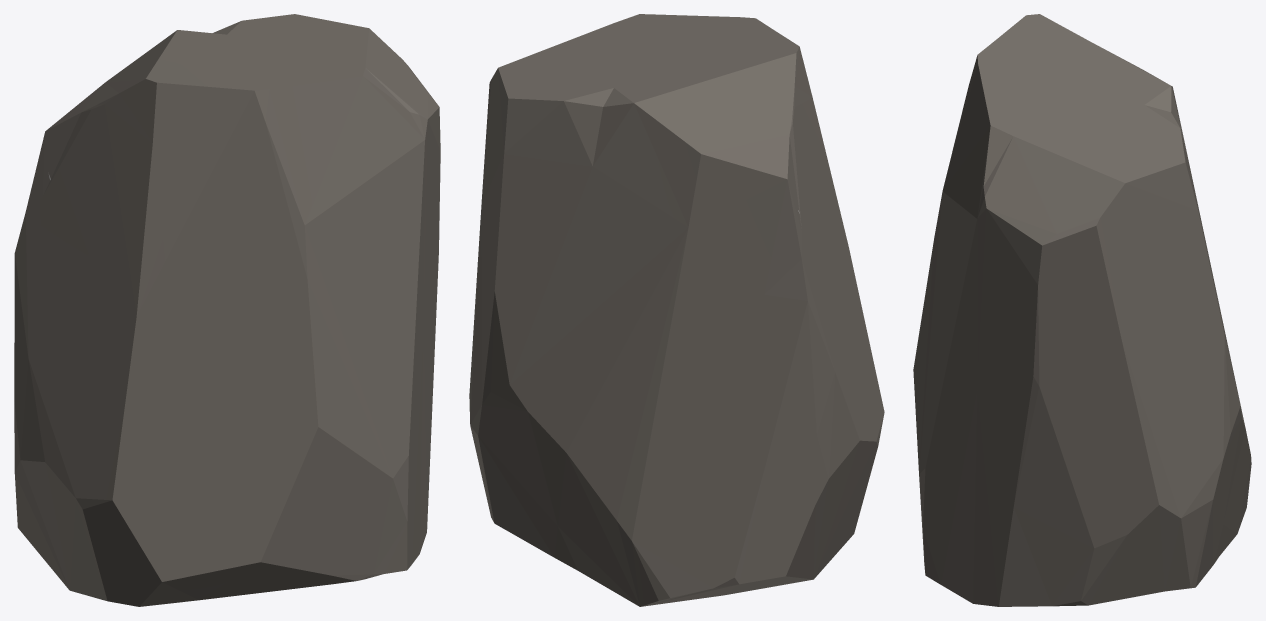
Rendered from SM_Env_Rock_02.fbx.
3 views of the same model, side by side, from view 1: azimuth 30°, elevation 25°; view 2: azimuth 150°, elevation 25°; view 3: azimuth 270°, elevation 25° (orthographic). The views are drawn at different scales.
Visible parts, largest first — view 1: SM_Env_Rock_02; view 2: SM_Env_Rock_02; view 3: SM_Env_Rock_02.
Part boxes in pixels (bbox=[...]): SM_Env_Rock_02: bbox=[14, 14, 440, 606]; SM_Env_Rock_02: bbox=[469, 14, 884, 606]; SM_Env_Rock_02: bbox=[913, 14, 1251, 606].
Size of the model in its own units: 509 by 417 by 688.
2 materials, 1 textured.
